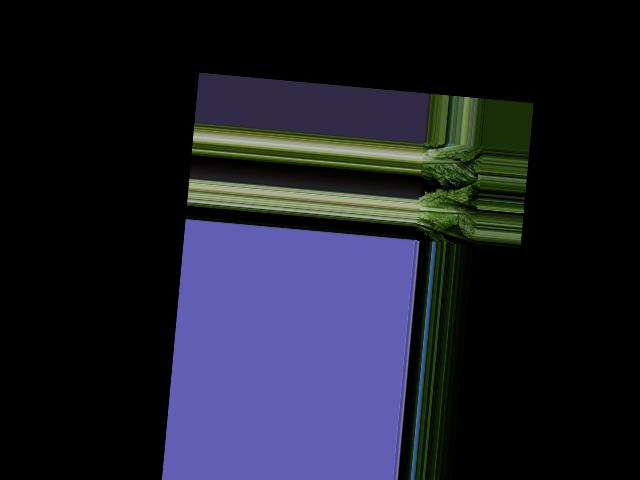lettuce: (418, 143, 479, 188)
